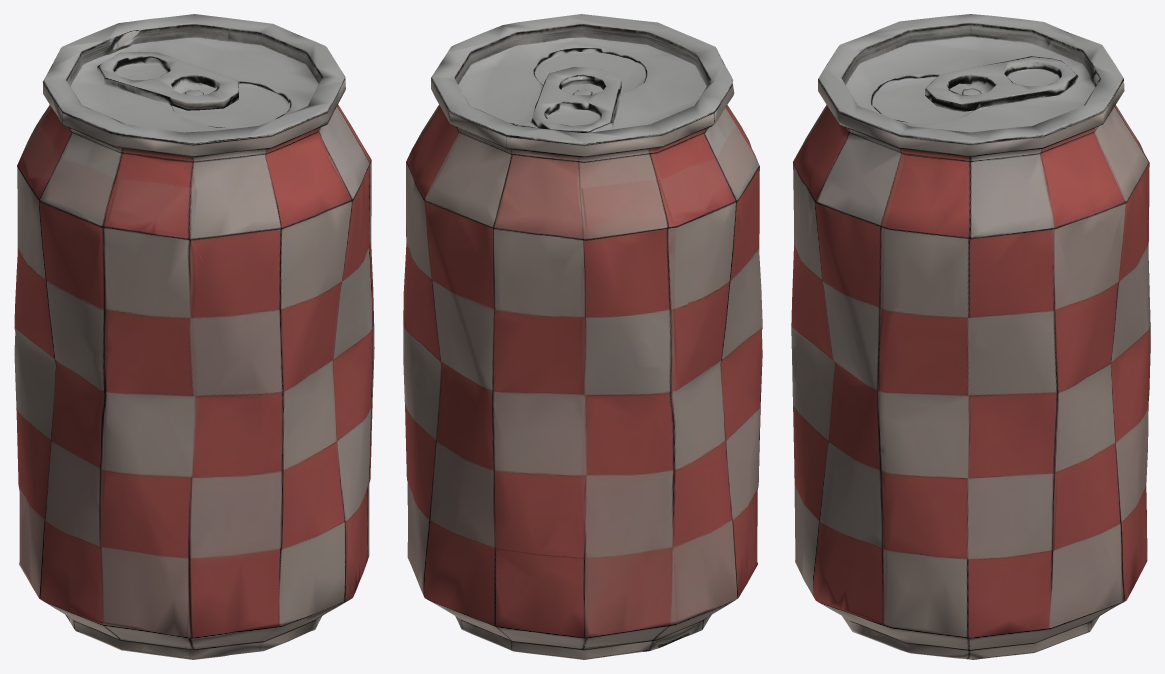
The model's file is soda.glb.
3 views of the same model, side by side, from view 1: azimuth 30°, elevation 25°; view 2: azimuth 150°, elevation 25°; view 3: azimuth 270°, elevation 25° (orthographic).
Visible parts, largest first — view 1: tripo_node_6d053fe1-0181-4618-a679-5f550fb82f60; view 2: tripo_node_6d053fe1-0181-4618-a679-5f550fb82f60; view 3: tripo_node_6d053fe1-0181-4618-a679-5f550fb82f60.
Boxes of the visible parts, bbox=[...] form: tripo_node_6d053fe1-0181-4618-a679-5f550fb82f60: bbox=[14, 14, 374, 659]; tripo_node_6d053fe1-0181-4618-a679-5f550fb82f60: bbox=[403, 14, 762, 659]; tripo_node_6d053fe1-0181-4618-a679-5f550fb82f60: bbox=[791, 14, 1150, 659].
Bounding box in the file's own units: 0.6201 × 1 × 0.6207.
Materials: 1 (1 with a texture image).
